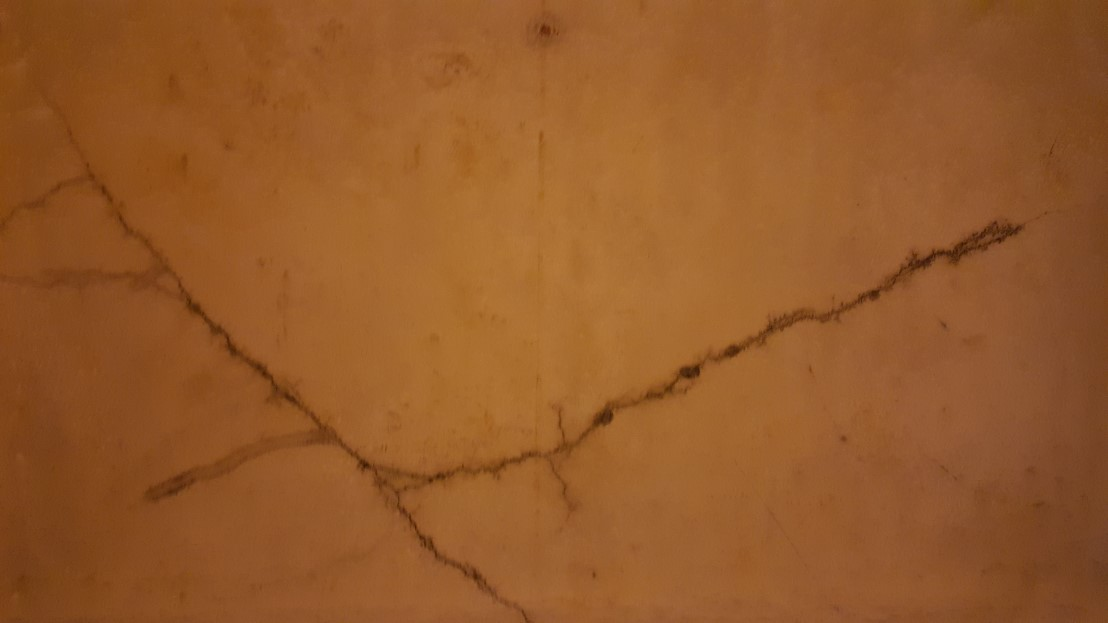Crack: (378, 194, 1071, 495), (20, 69, 441, 505), (359, 465, 571, 623), (0, 154, 120, 234)
